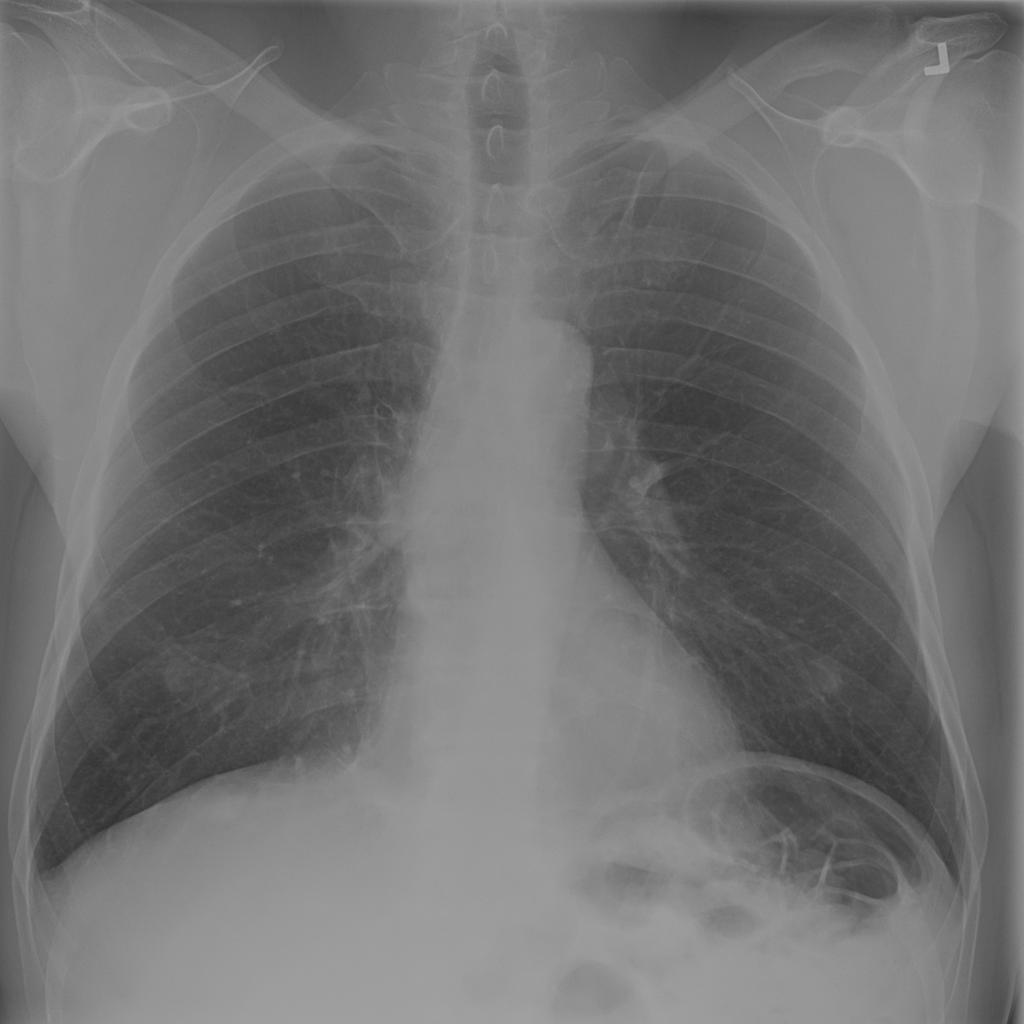nodule: (146, 637, 219, 709), (804, 653, 855, 702)
